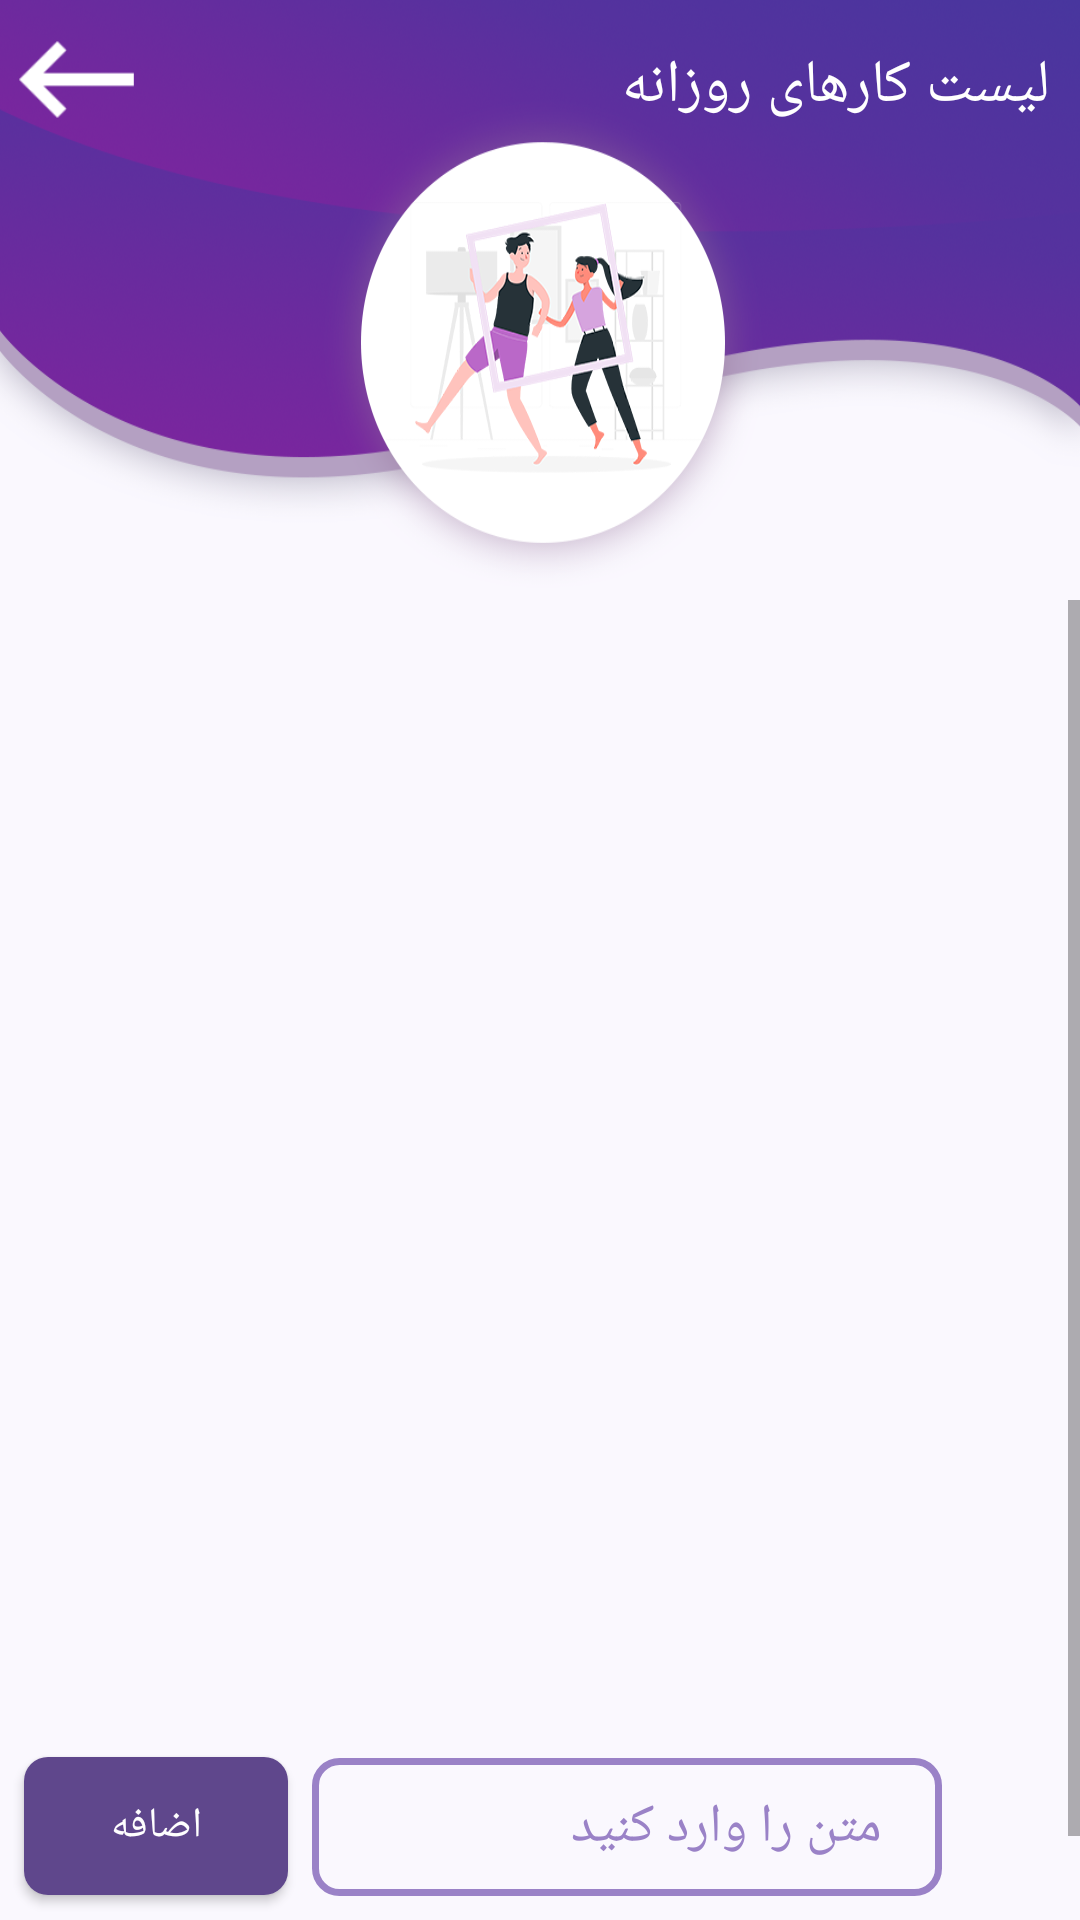

Named icons in this screenshot (1080w x 1920h) and their centers, [x,y]:
back: [76,79]
